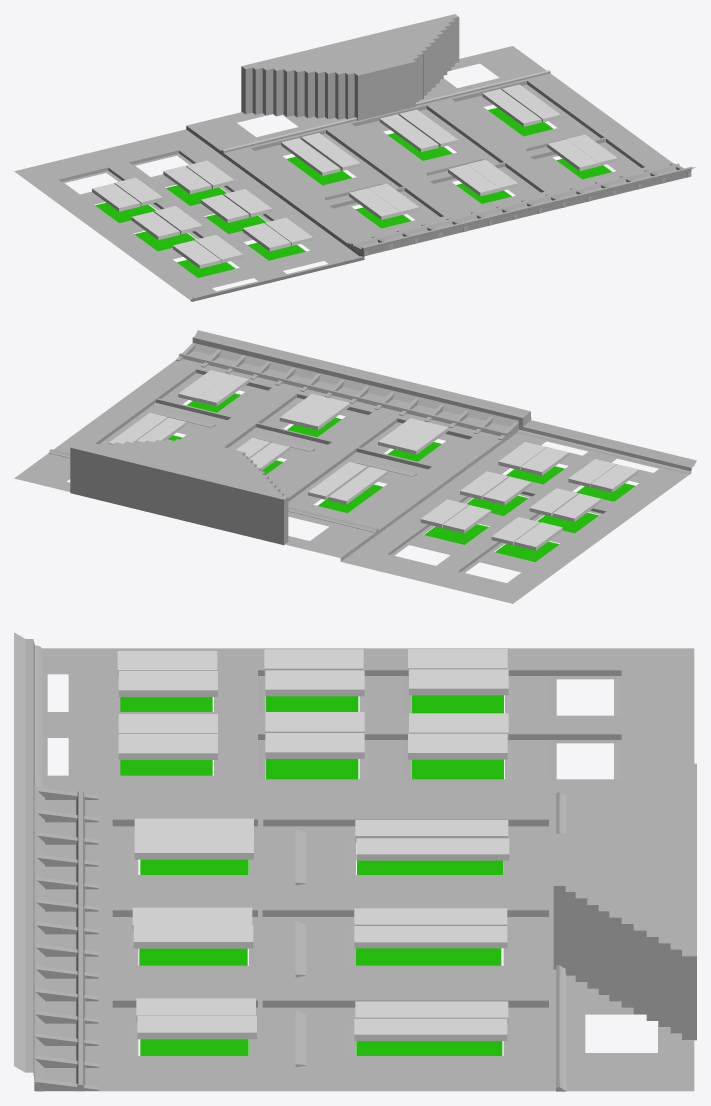
Rendered from lowPoly.dae.
The picture shows the model from 3 angles, top to bottom: view 1: azimuth 30°, elevation 25°; view 2: azimuth 150°, elevation 25°; view 3: azimuth 270°, elevation 25°; orthographic projection. The views are drawn at different scales.
Parts seen in each view (by area): view 1: FACADE, Luik4L, Luik6L, Luik5L, Luik6R, Luik5R, Luik4R, Luik2L, Luik1L, Luik3L, Luik9L, Luik8L (+22 smaller); view 2: FACADE, Luik6L, Luik6R, Luik2L, Luik1L, Luik3L, Luik12R, Luik7L, Luik9L, Luik10L, Luik8L, Luik11L (+19 smaller); view 3: FACADE, Luik6R, Luik4R, Luik5R, Luik1R, Luik6L, Luik2R, Luik3R, Luik4L, Luik5L, Luik12L, Luik10R (+25 smaller).
Boxes of the visible parts, left/top/right/bottom form: FACADE: left=14, top=14, right=695, bottom=301; Luik4L: left=482, top=89, right=541, bottom=126; Luik6L: left=281, top=138, right=340, bottom=175; Luik5L: left=379, top=114, right=438, bottom=151; Luik6R: left=301, top=133, right=360, bottom=170; Luik5R: left=399, top=109, right=458, bottom=147; Luik4R: left=501, top=84, right=560, bottom=122; Luik2L: left=448, top=164, right=499, bottom=196; Luik1L: left=547, top=139, right=598, bottom=170; Luik3L: left=349, top=188, right=400, bottom=219; Luik9L: left=200, top=194, right=249, bottom=222; Luik8L: left=173, top=240, right=221, bottom=268; FACADE: left=14, top=330, right=696, bottom=603; Luik6L: left=328, top=466, right=387, bottom=504; Luik6R: left=308, top=462, right=367, bottom=499; Luik2L: left=299, top=398, right=350, bottom=429; Luik1L: left=197, top=374, right=248, bottom=406; Luik3L: left=397, top=422, right=448, bottom=454; Luik12R: left=514, top=522, right=562, bottom=550; Luik7L: left=520, top=447, right=568, bottom=475; Luik9L: left=483, top=477, right=531, bottom=505; Luik10L: left=553, top=493, right=601, bottom=521; Luik8L: left=590, top=464, right=638, bottom=492; Luik11L: left=443, top=505, right=491, bottom=533; FACADE: left=14, top=632, right=696, bottom=1091; Luik6R: left=356, top=838, right=509, bottom=860; Luik4R: left=354, top=1018, right=507, bottom=1040; Luik5R: left=354, top=926, right=507, bottom=948; Luik1R: left=137, top=1015, right=256, bottom=1039; Luik6L: left=355, top=820, right=508, bottom=842; Luik2R: left=133, top=925, right=253, bottom=948; Luik3R: left=134, top=836, right=253, bottom=859; Luik4L: left=355, top=1001, right=508, bottom=1023; Luik5L: left=354, top=908, right=507, bottom=925; Luik12L: left=409, top=669, right=508, bottom=695; Luik10R: left=265, top=670, right=364, bottom=696.
Size of the model in its own units: 952 by 610 by 95.77.
